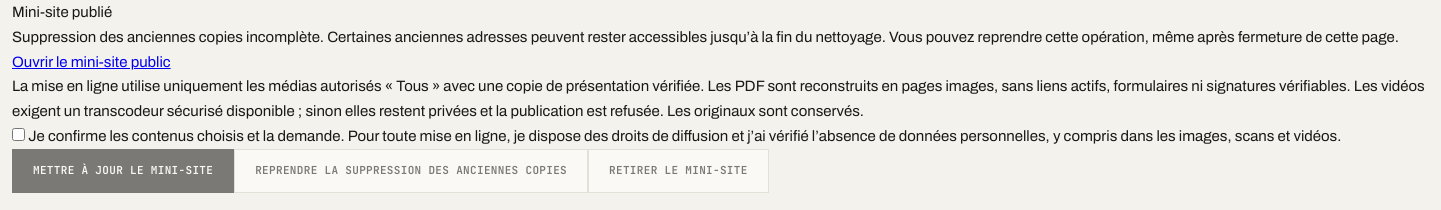
Test: demande de publication conservée dans l’onglet › une reprise de nettoyage aboutie côté serveur est constatée dès la relecture du même onglet (V4 relecture H6/H7)
This screenshot has width=1441, height=210.
Click the checkbox: (18, 134) [12, 128, 25, 141]
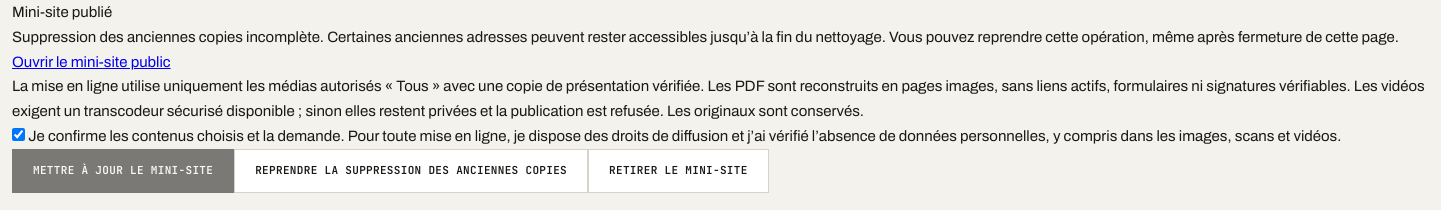
Click the button "Reprendre la suppression des anciennes copies": (411, 170) [234, 148, 588, 192]
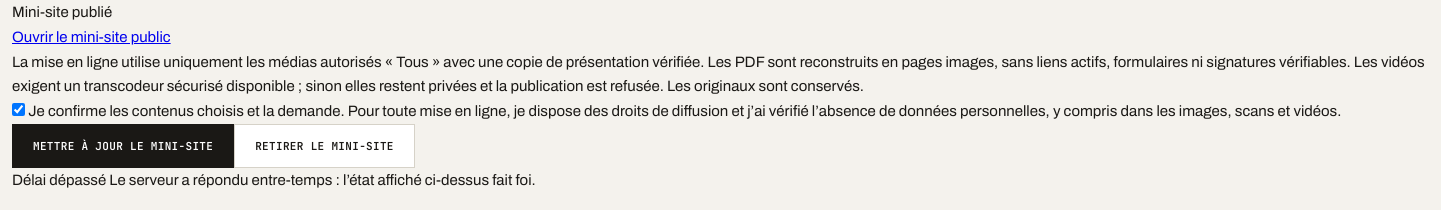
Expected: the text "Suppression des anciennes copies incomplète" is gone
Expected: the button "Reprendre la suppression des anciennes copies" is gone
